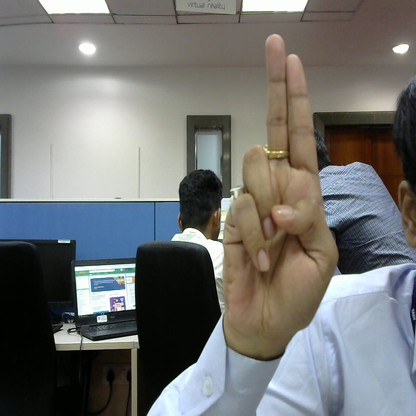u: (220, 30, 340, 334)
